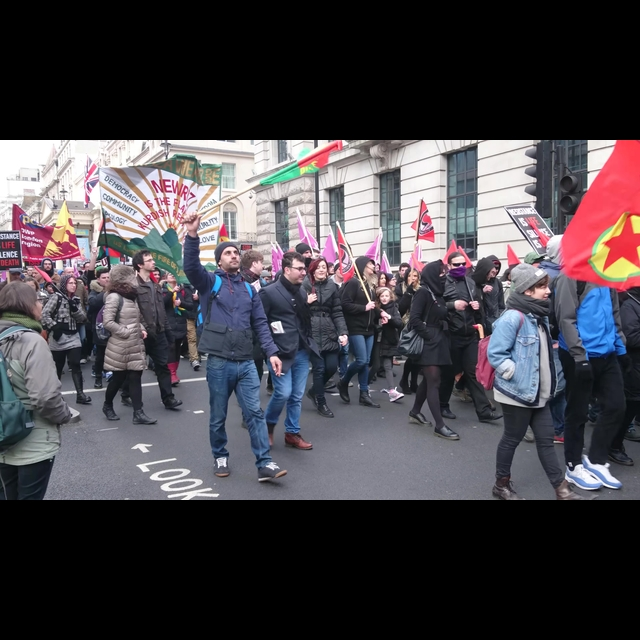PKK: (564, 140, 640, 291)
